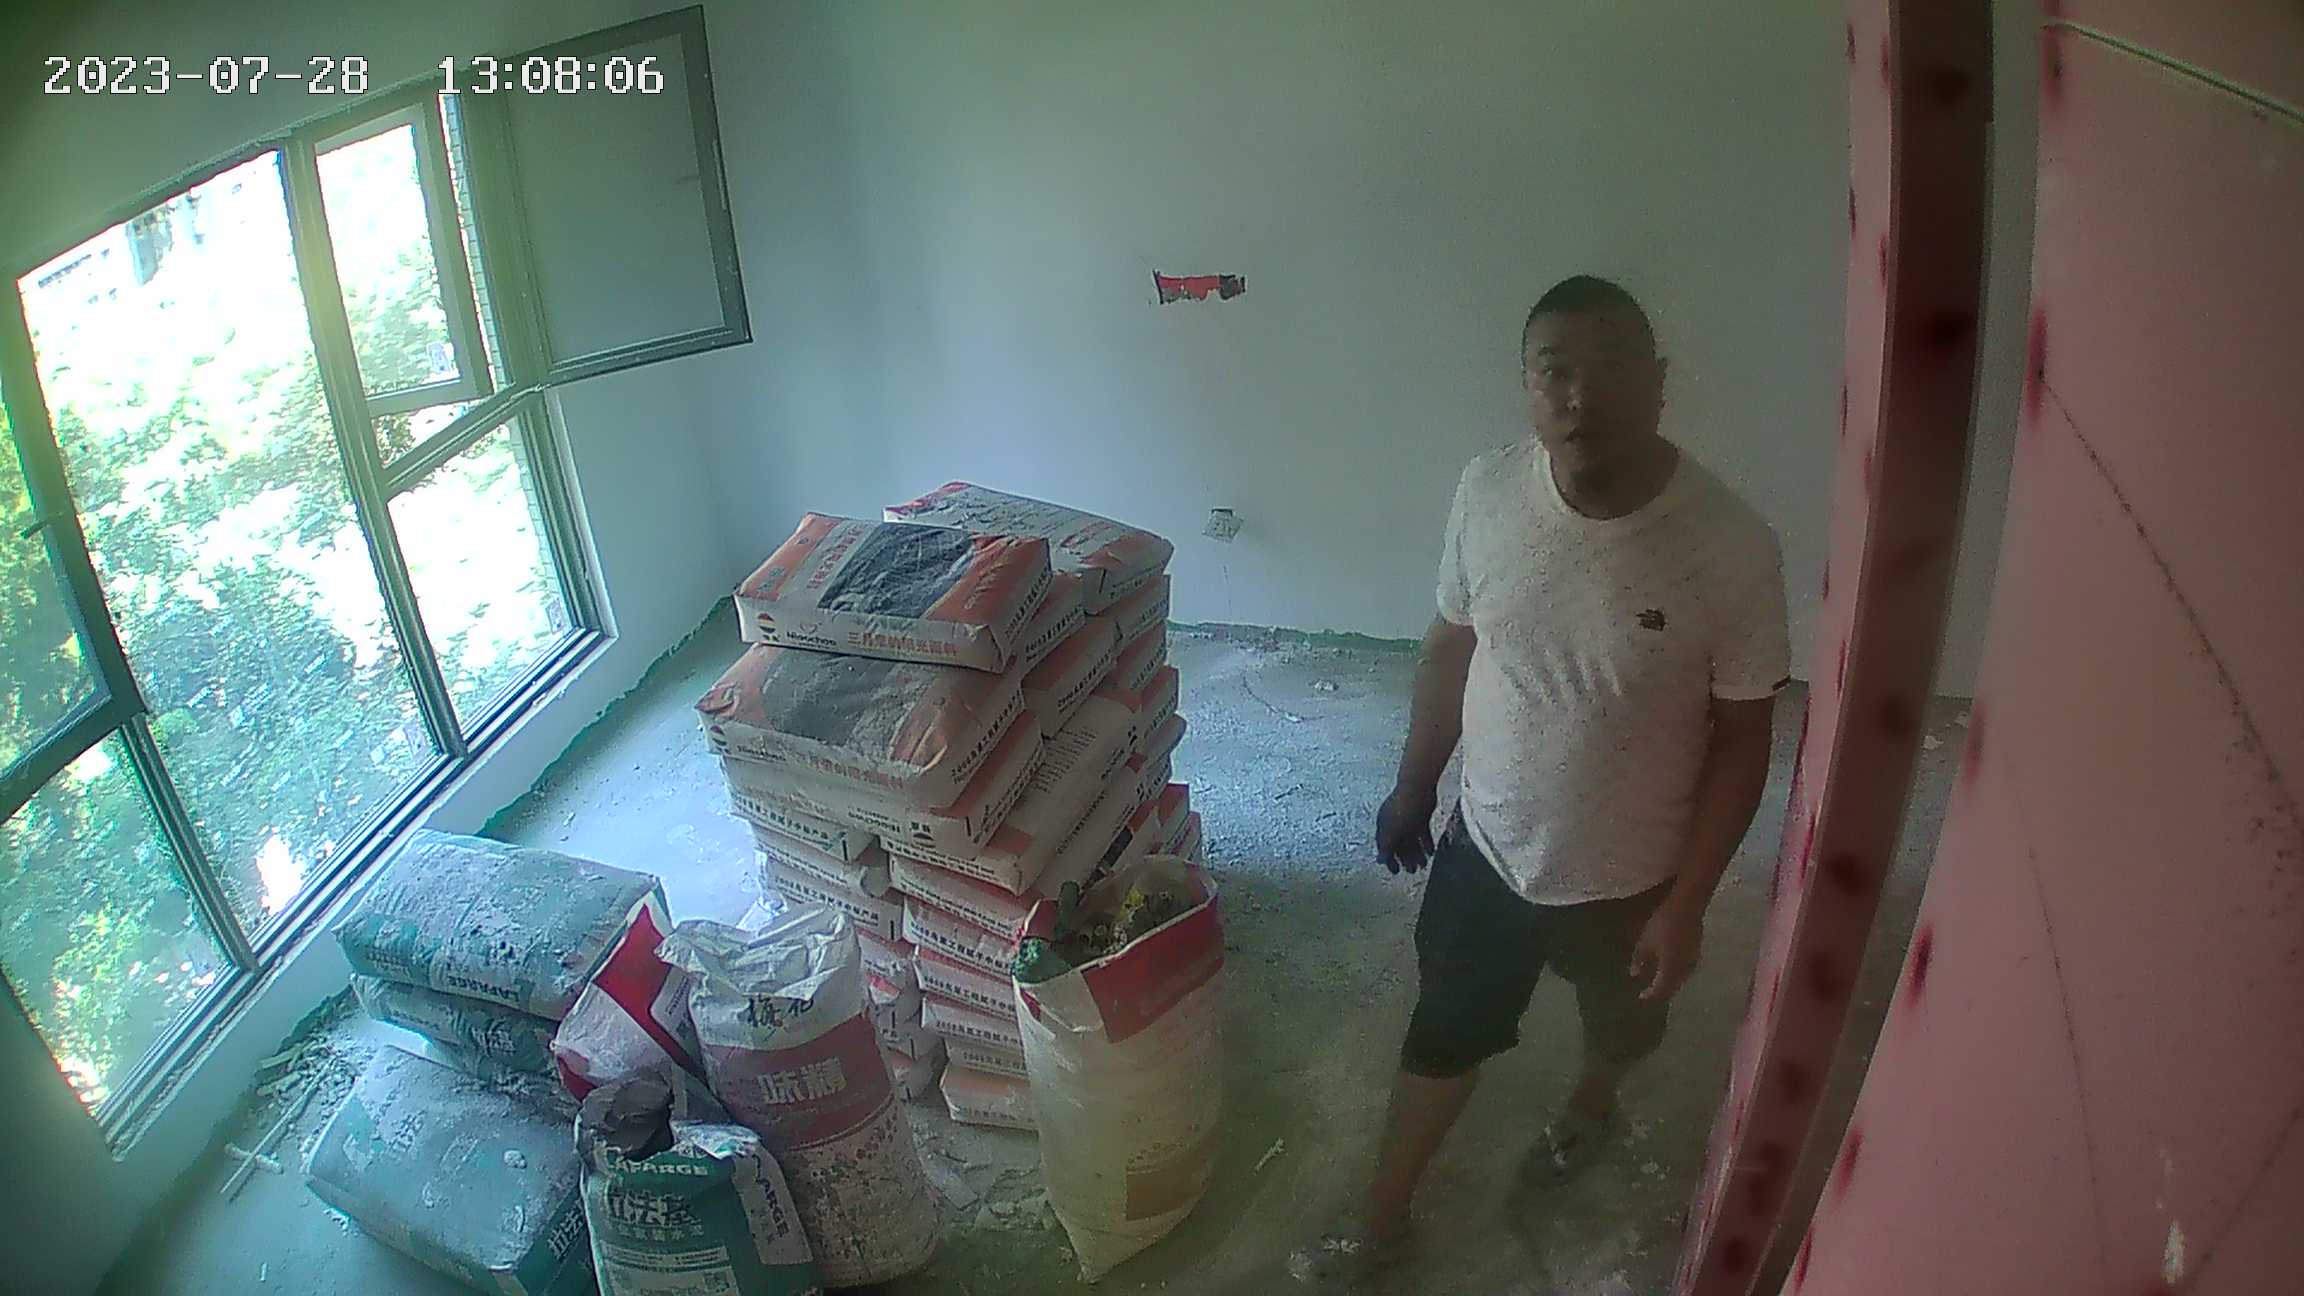people: (1313, 266, 1801, 1268)
window: (1, 79, 585, 1106)
